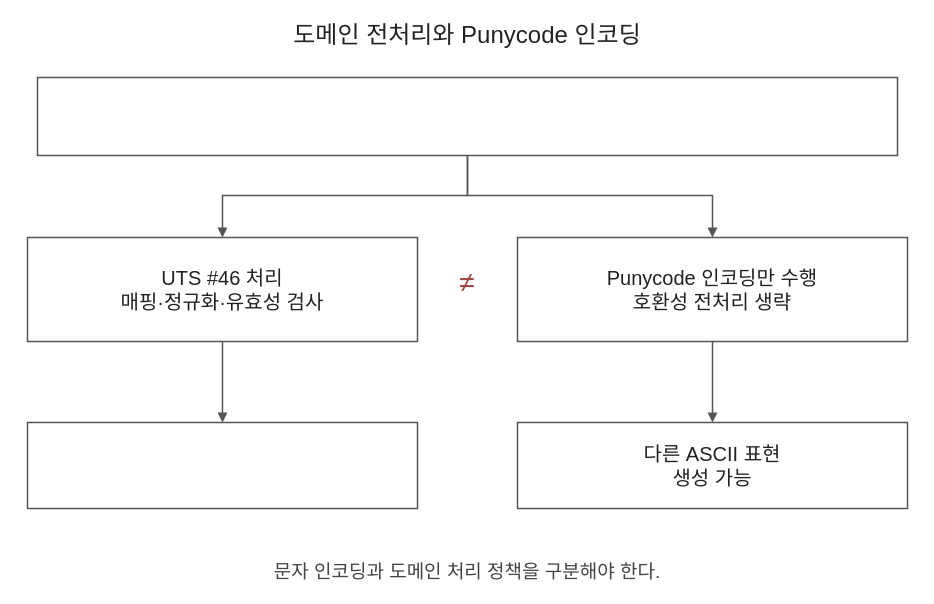
The diagram is 934 pixels wide and 604 high, and some of its shapes have lost their labels. Each missing label, with the box of its shape:
Unicode 도메인: (36, 76, 898, 156)
처리 정책에 맞는 ASCII 도메인: (26, 421, 418, 509)
